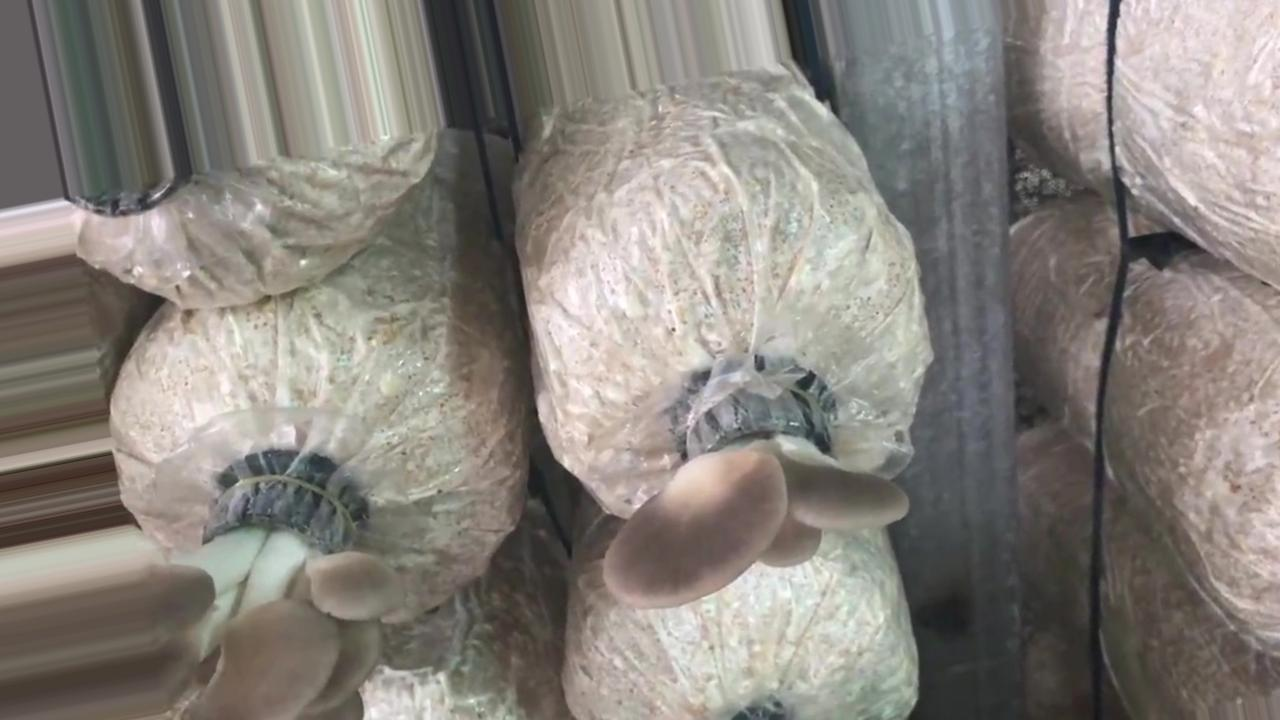nam: (1, 462, 413, 717), (603, 362, 914, 612)
